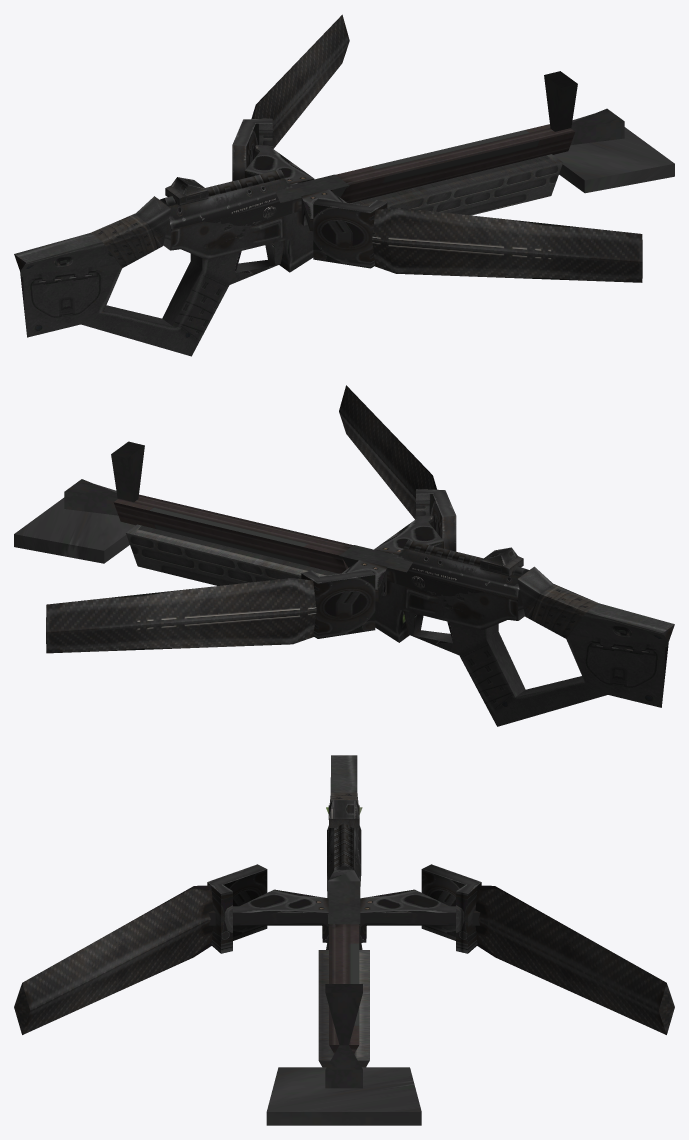
File: t6_wpn_crossbow_stow_LOD2.obj
3 renders of one model, top to bottom at view 1: azimuth 30°, elevation 25°; view 2: azimuth 150°, elevation 25°; view 3: azimuth 270°, elevation 25°, orthographic. The views are drawn at different scales.
Visible parts, largest first — view 1: mtl_t6_wpn_crossbow, mtl_t6_wpn_crossbow_camo1, mtl_t6_wpn_crossbow_camo3; view 2: mtl_t6_wpn_crossbow, mtl_t6_wpn_crossbow_camo1, mtl_t6_wpn_crossbow_camo3; view 3: mtl_t6_wpn_crossbow_camo1, mtl_t6_wpn_crossbow, mtl_t6_wpn_crossbow_camo3.
Part boxes in pixels (x1,y1,x2,y2): mtl_t6_wpn_crossbow: (14,124,574,356); mtl_t6_wpn_crossbow_camo1: (90,14,674,282); mtl_t6_wpn_crossbow_camo3: (169,118,387,356); mtl_t6_wpn_crossbow: (113,494,674,726); mtl_t6_wpn_crossbow_camo1: (14,385,598,653); mtl_t6_wpn_crossbow_camo3: (301,489,519,726); mtl_t6_wpn_crossbow_camo1: (14,792,674,1125); mtl_t6_wpn_crossbow: (208,755,480,1067); mtl_t6_wpn_crossbow_camo3: (207,825,481,953).
Bounding box in the file's own units: 72.96 × 21.06 × 62.81.
